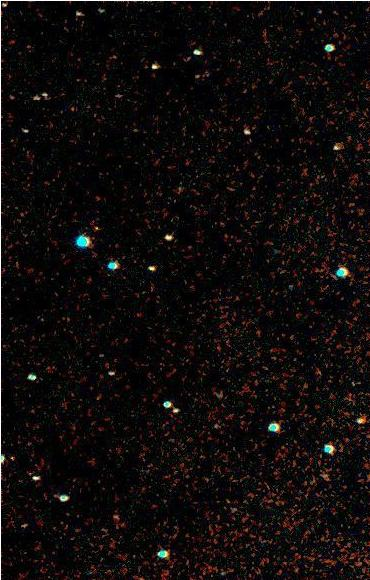star: (13, 26, 43, 56)
